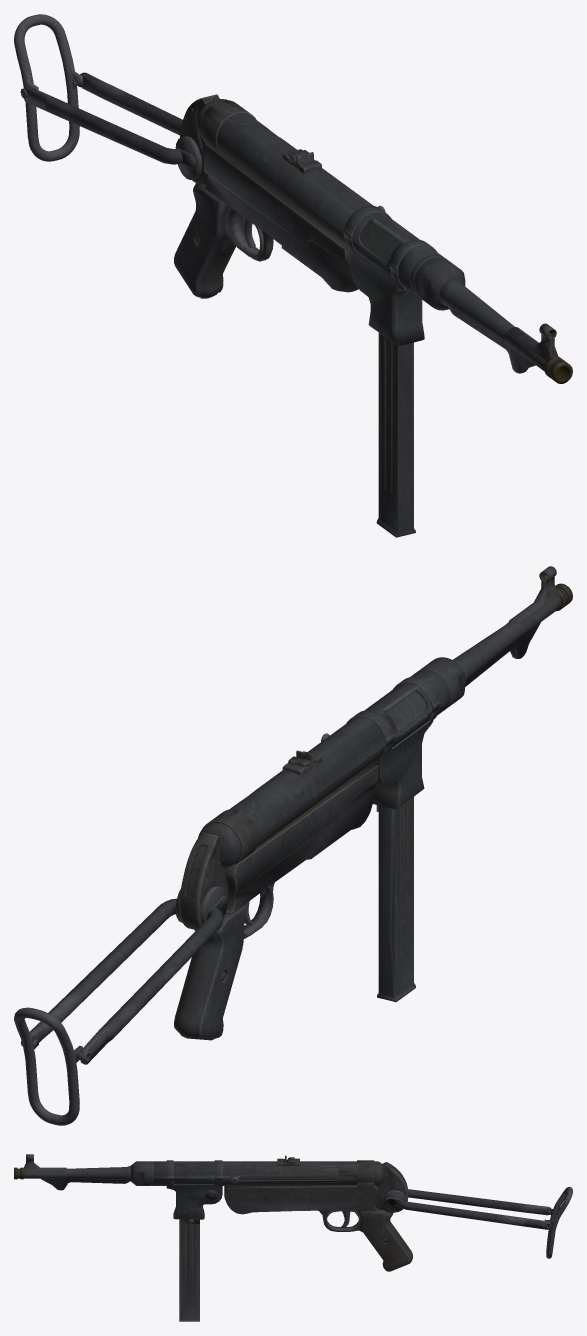
The picture shows the model from 3 angles, top to bottom: view 1: azimuth 30°, elevation 25°; view 2: azimuth 150°, elevation 25°; view 3: azimuth 270°, elevation 25°; orthographic projection. The views are drawn at different scales.
Visible parts, largest first — view 1: defaultMaterial (×2); view 2: defaultMaterial (×2); view 3: defaultMaterial.
Boxes of the visible parts, <box> form: defaultMaterial (×2): <box>14,14,572,537</box>; defaultMaterial (×2): <box>14,566,572,1125</box>; defaultMaterial: <box>14,1154,572,1321</box>.
Size of the model in its own units: 0.1497 by 0.6497 by 2.
Materials: 1 (1 with a texture image).
